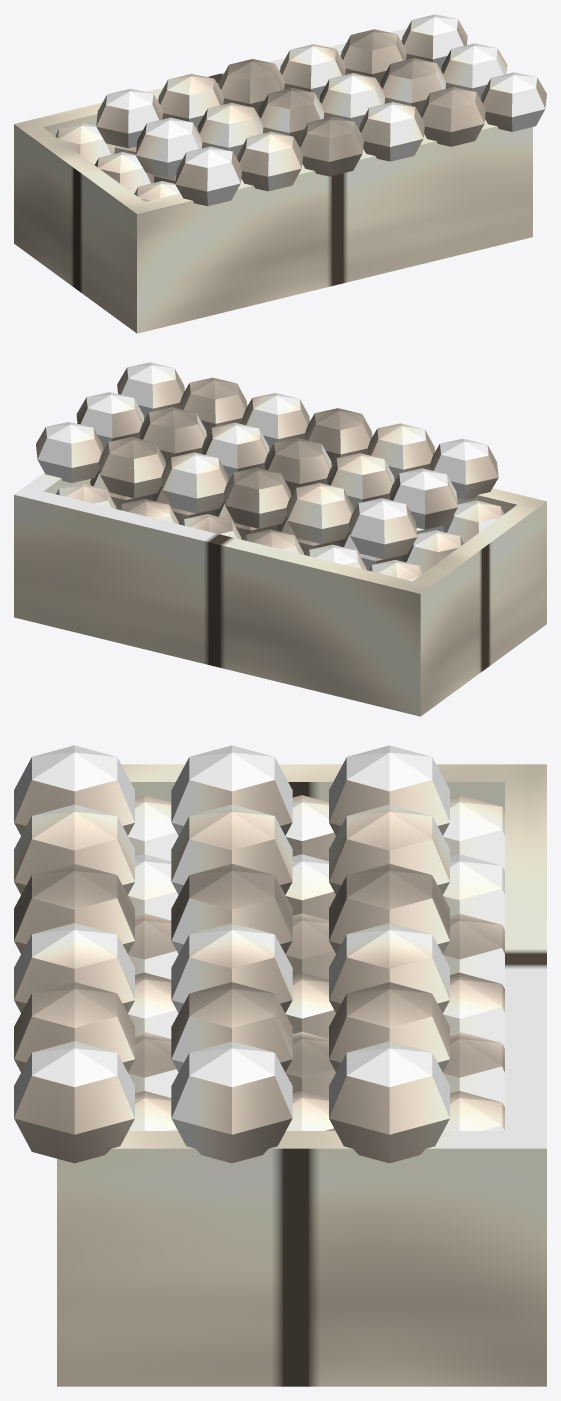
File: castagne.obj
3 renders of one model, top to bottom at view 1: azimuth 30°, elevation 25°; view 2: azimuth 150°, elevation 25°; view 3: azimuth 270°, elevation 25°, orthographic. The views are drawn at different scales.
Parts seen in each view (by area): view 1: castagne; view 2: castagne; view 3: castagne.
Part boxes in pixels (x1,y1,x2,y2): castagne: (14,14,546,333); castagne: (14,362,546,716); castagne: (14,745,546,1386).
Bounding box in the file's own units: 0.272 × 0.102 × 0.1523.
3 materials, 3 textured.
